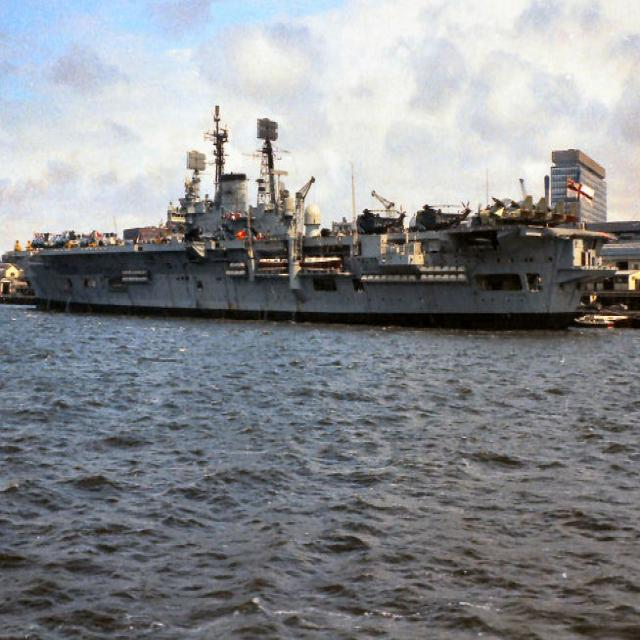Portanaves: (1, 101, 619, 322)
